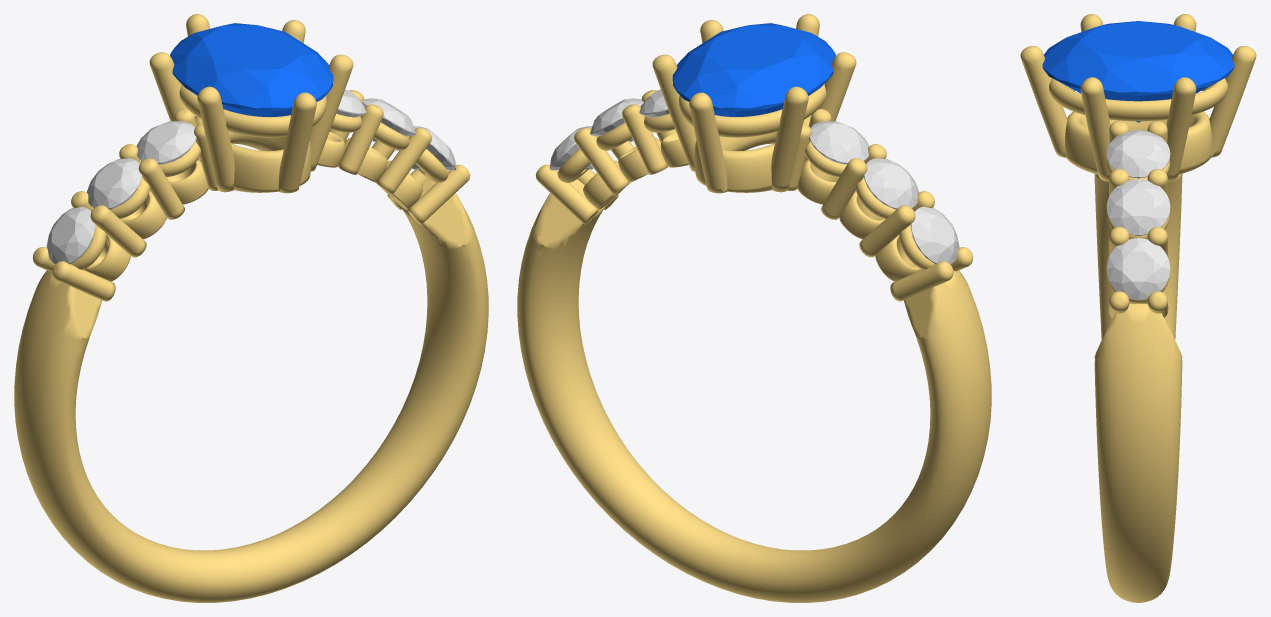
The model's file is bluesapphire-oval-yellowgold-6prong-taperedband-7stone.glb.
3 views of the same model, side by side, from view 1: azimuth 30°, elevation 25°; view 2: azimuth 150°, elevation 25°; view 3: azimuth 270°, elevation 25° (orthographic).
Visible parts, largest first — view 1: metal, stone.001, side.012, side.013, side.014, side.016, side.015; view 2: metal, stone.001, side.012, side.013, side.014, side.016, side.015; view 3: metal, stone.001, side.015, side.016, side.017.
Part boxes in pixels (bbox=[...]): metal: bbox=[14, 14, 488, 602]; stone.001: bbox=[170, 23, 333, 116]; side.012: bbox=[46, 206, 95, 264]; side.013: bbox=[87, 158, 142, 209]; side.014: bbox=[136, 121, 196, 164]; side.016: bbox=[362, 98, 415, 141]; side.015: bbox=[412, 126, 456, 170]; metal: bbox=[517, 14, 991, 602]; stone.001: bbox=[672, 23, 835, 116]; side.012: bbox=[910, 206, 959, 264]; side.013: bbox=[863, 158, 918, 209]; side.014: bbox=[809, 121, 869, 164]; side.016: bbox=[590, 98, 643, 141]; side.015: bbox=[549, 126, 593, 170]; metal: bbox=[1020, 14, 1256, 602]; stone.001: bbox=[1042, 21, 1234, 122]; side.015: bbox=[1106, 238, 1170, 299]; side.016: bbox=[1106, 179, 1170, 235]; side.017: bbox=[1106, 130, 1170, 178].
Bounding box in the file's own units: 20.48 × 23.4 × 9.29.
